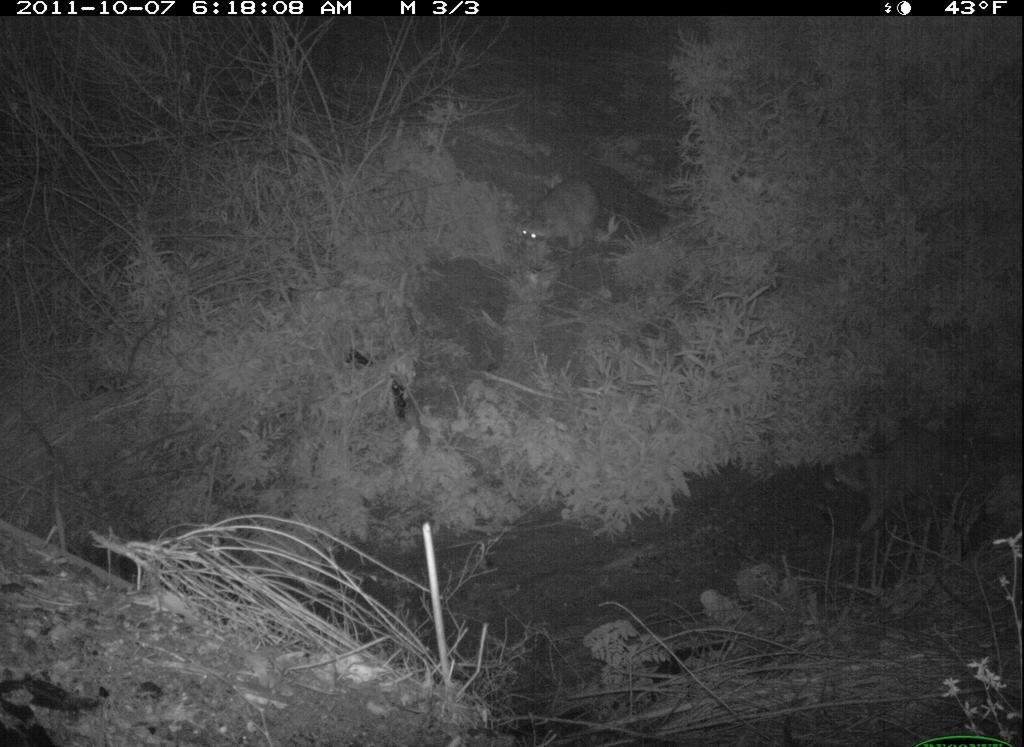raccoon: (820, 419, 972, 534), (519, 169, 625, 259)
